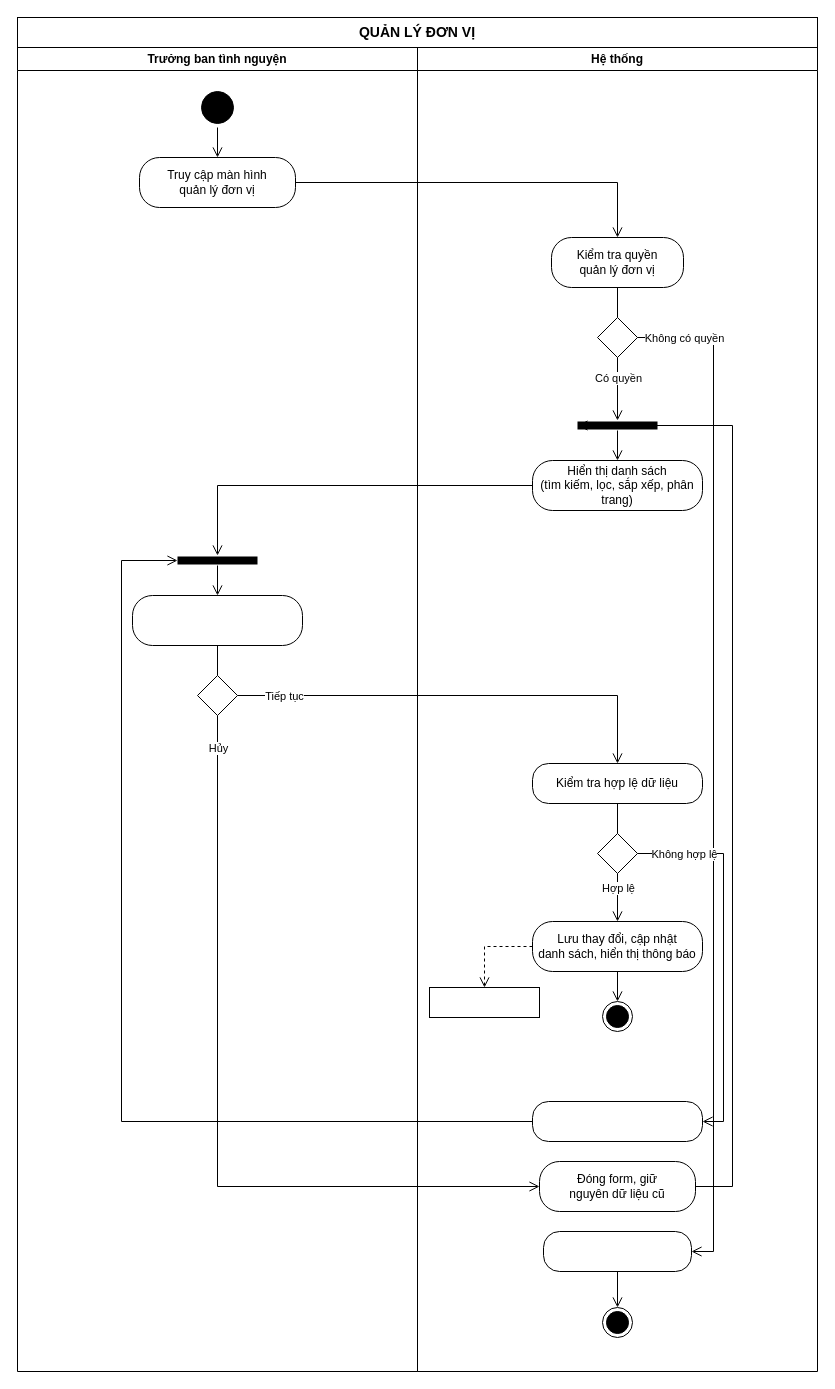
Image size: 835x1389. Some labels were removed from this diagram. Here are the shapes that lost their labels. From the top down, the centre of each, then its label:
At [217,620]: "Thêm/sửa/xóa bản ghi hoặc import/tải file".
At [484,1002]: "Faculty/Major/Class".
At [617,1121]: "Hiển thị thông báo lỗi".
At [617,1251]: "Từ chối thao tác".
